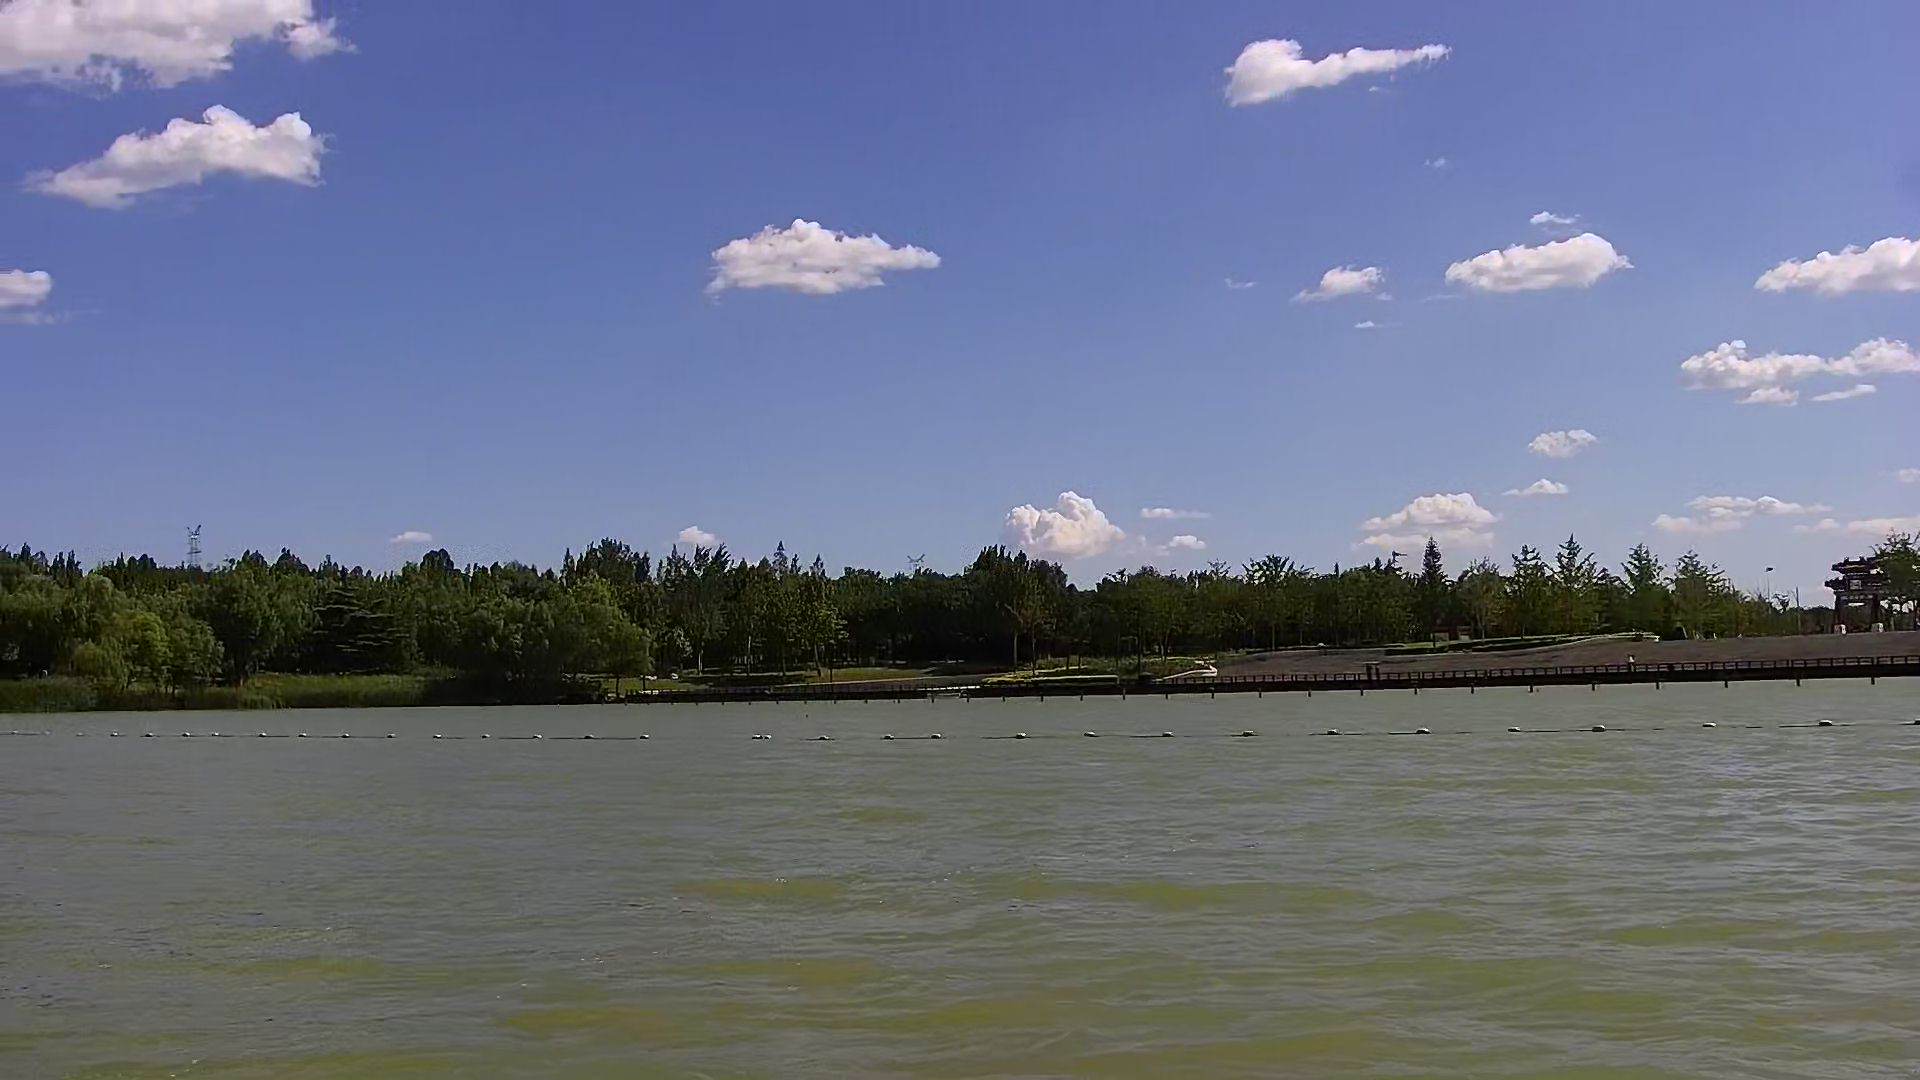ball: (1811, 708, 1842, 736), (1588, 709, 1611, 738), (924, 723, 955, 742), (1236, 719, 1261, 738), (1408, 717, 1431, 738), (874, 725, 898, 741)
harbor: (1218, 632, 1920, 694)
